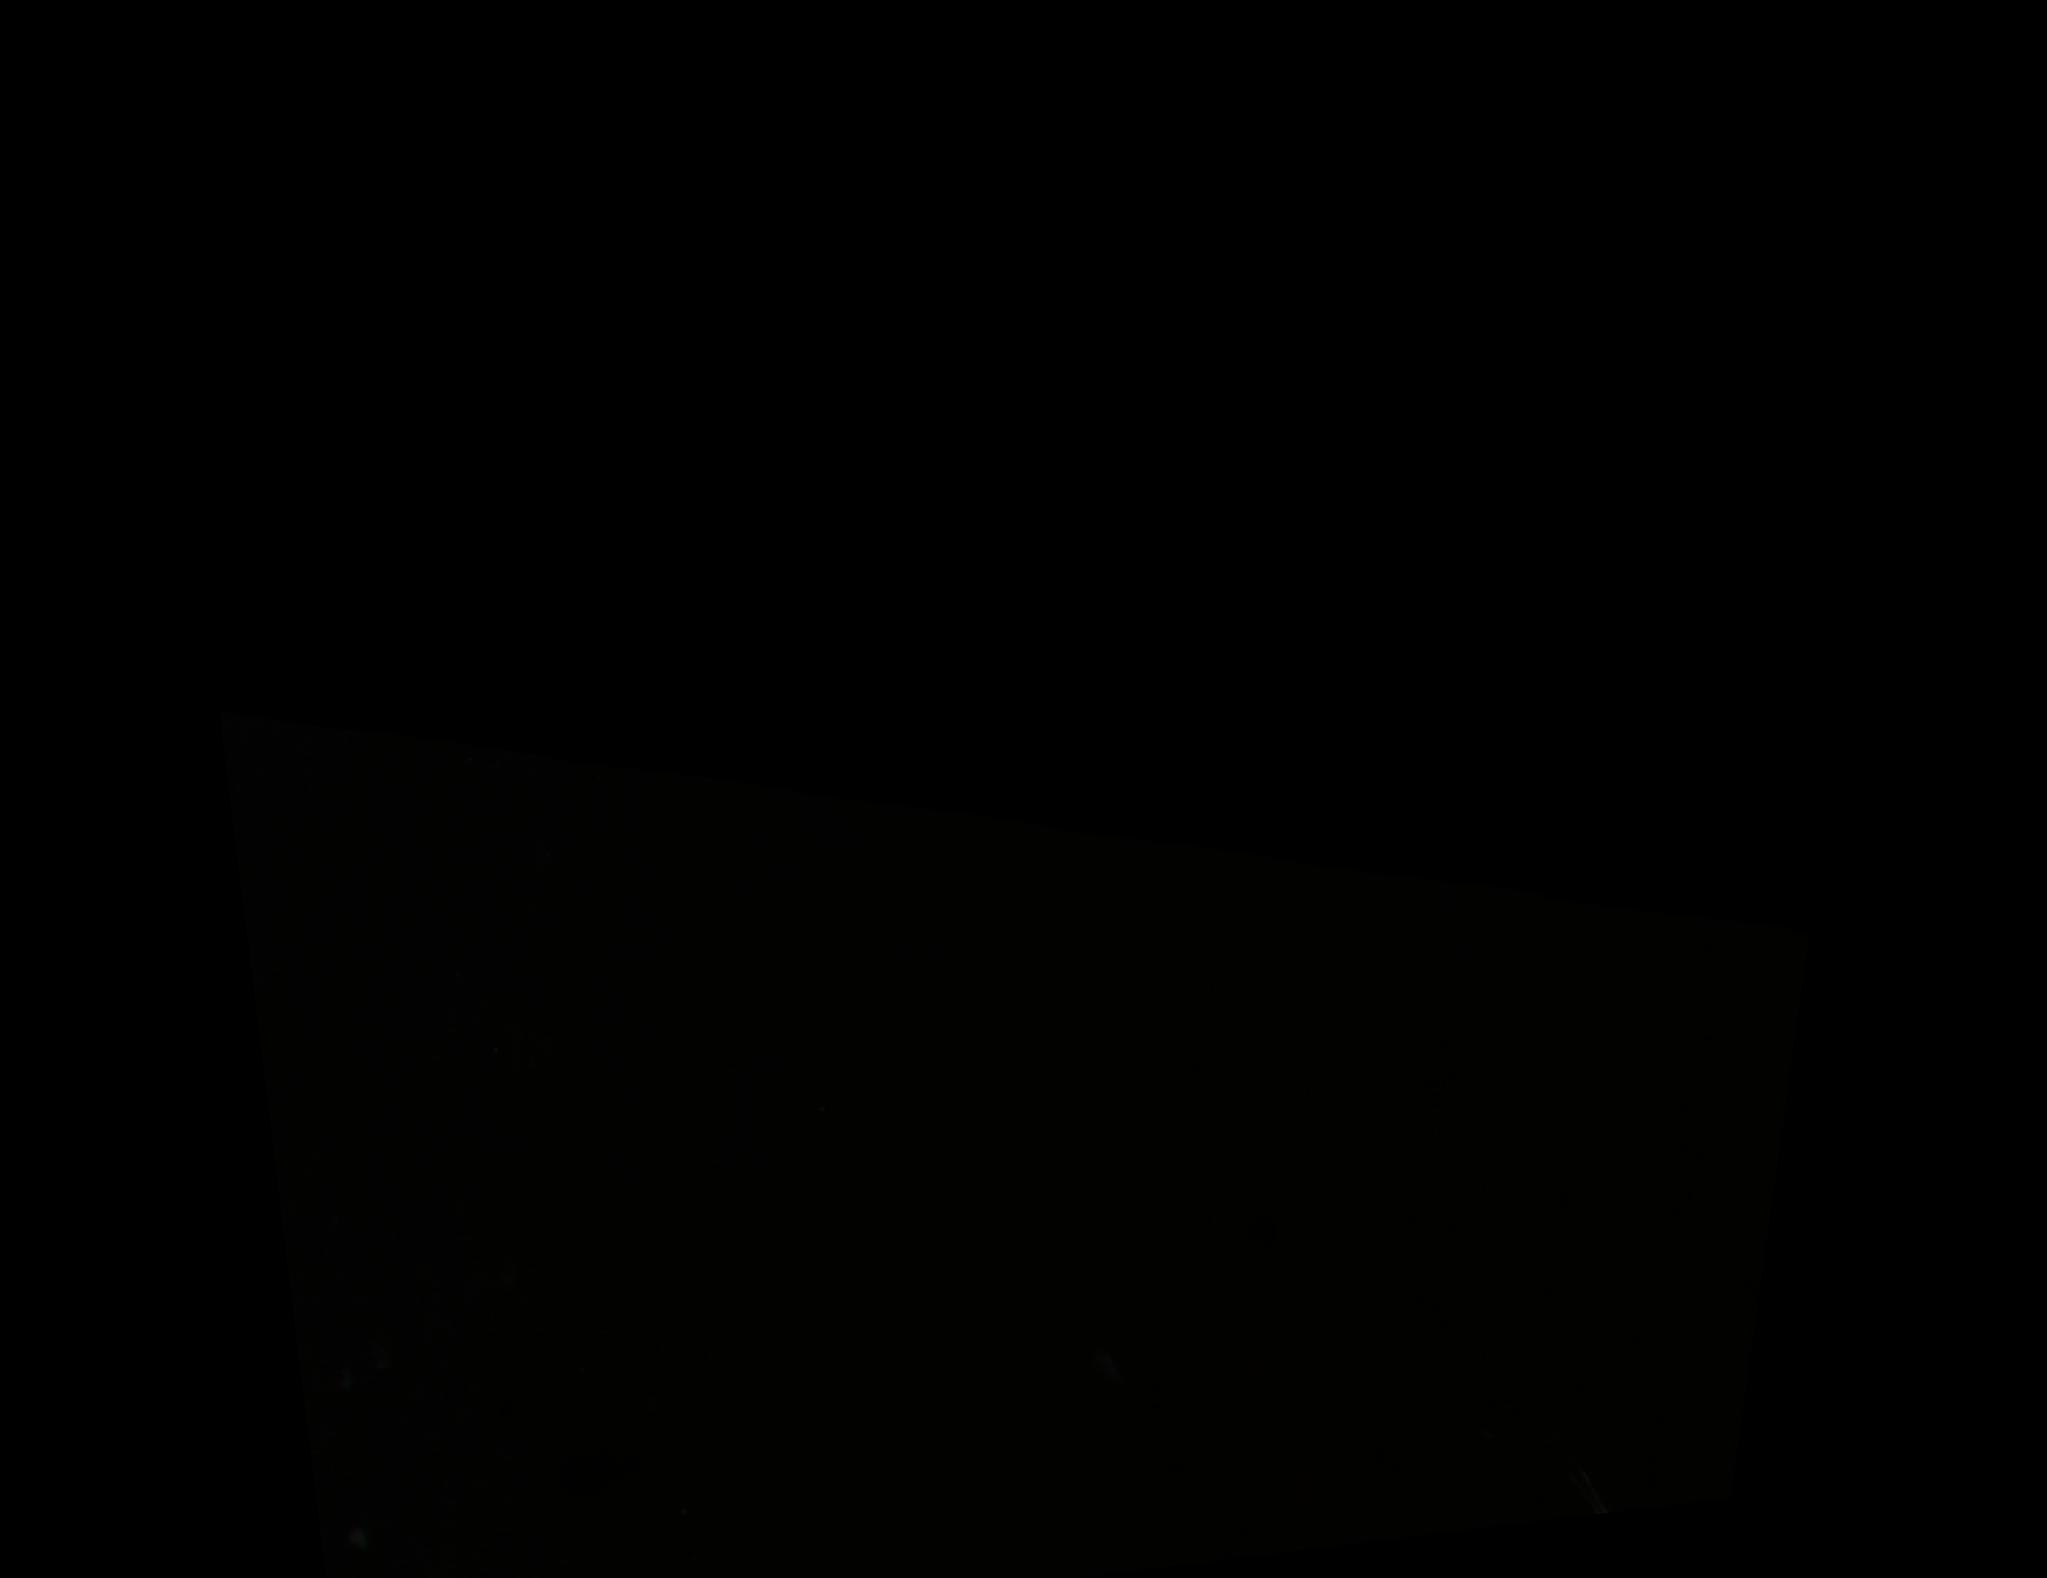ship: (1596, 1493, 1599, 1500)
